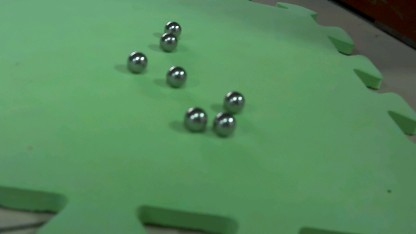ironball: (122, 47, 150, 76), (178, 103, 203, 131), (212, 107, 236, 136), (162, 63, 187, 85), (222, 90, 248, 110), (161, 17, 182, 37), (157, 32, 177, 51)
